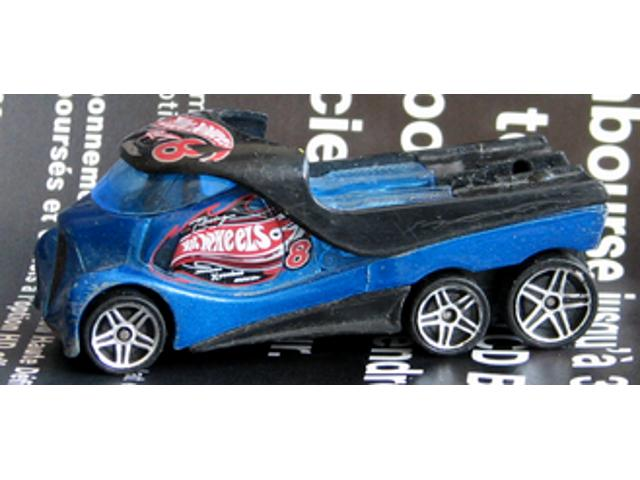toy-car: (32, 109, 607, 377)
